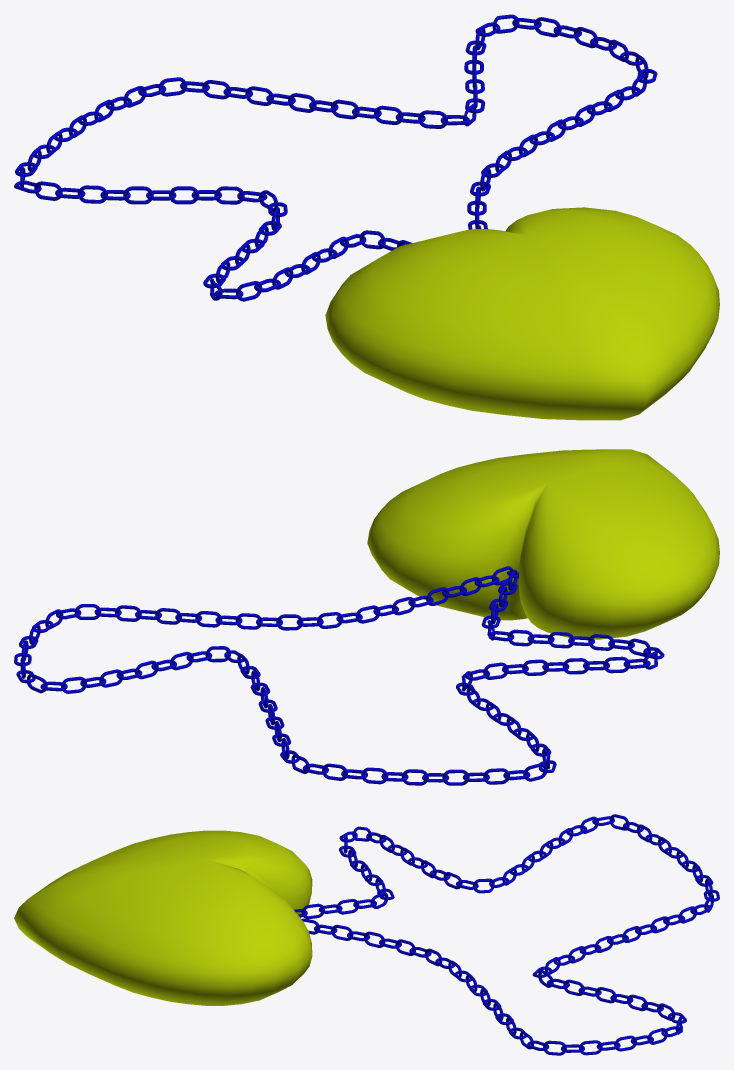
Rendered from CadenaCorazonPintada.obj.
3 renders of one model, top to bottom at view 1: azimuth 30°, elevation 25°; view 2: azimuth 150°, elevation 25°; view 3: azimuth 270°, elevation 25°, orthographic. The views are drawn at different scales.
Parts seen in each view (by area): view 1: Plane_Plane.002_Plane_Plane.002, Cadenas_Torus_Cadenas_Torus; view 2: Plane_Plane.002_Plane_Plane.002, Cadenas_Torus_Cadenas_Torus; view 3: Plane_Plane.002_Plane_Plane.002, Cadenas_Torus_Cadenas_Torus.
Part boxes in pixels (<box>): Plane_Plane.002_Plane_Plane.002: <box>325,207,719,420</box>; Cadenas_Torus_Cadenas_Torus: <box>14,14,657,301</box>; Plane_Plane.002_Plane_Plane.002: <box>367,449,719,639</box>; Cadenas_Torus_Cadenas_Torus: <box>14,566,664,785</box>; Plane_Plane.002_Plane_Plane.002: <box>14,830,312,1005</box>; Cadenas_Torus_Cadenas_Torus: <box>294,814,719,1055</box>.
Bounding box in the file's own units: 4.57 × 1.07 × 5.8.
